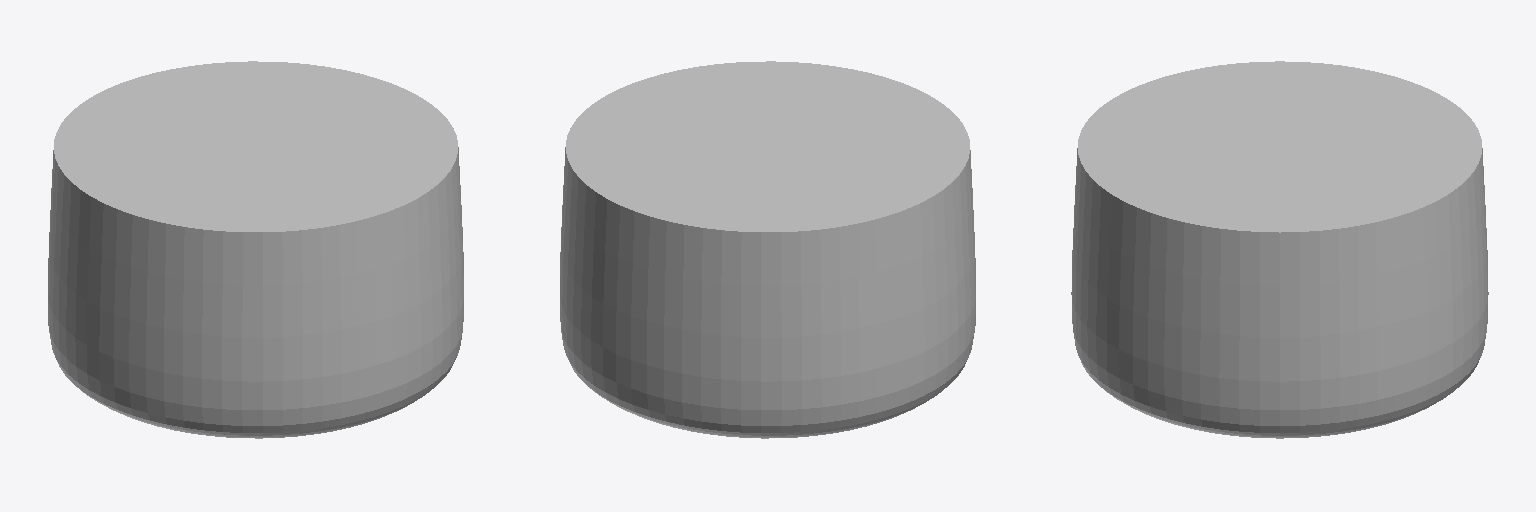
The model's file is NewObject2.obj.
3 views of the same model, side by side, from view 1: azimuth 30°, elevation 25°; view 2: azimuth 150°, elevation 25°; view 3: azimuth 270°, elevation 25° (orthographic).
Visible parts, largest first — view 1: Circle.001; view 2: Circle.001; view 3: Circle.001.
Part boxes in pixels (left/top/right/bottom): Circle.001: left=48, top=61, right=463, bottom=438; Circle.001: left=560, top=61, right=975, bottom=438; Circle.001: left=1071, top=61, right=1488, bottom=438.
Bounding box in the file's own units: 4.85 × 2.8 × 4.85.